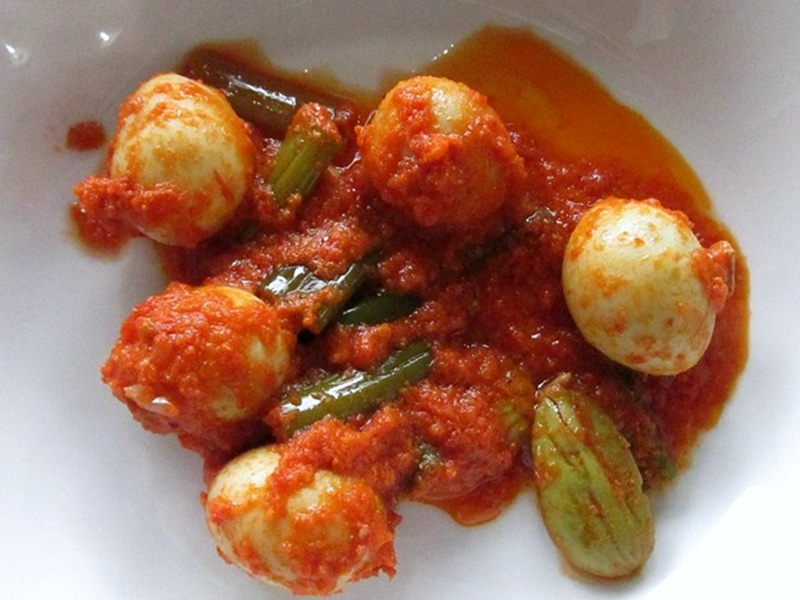Telur Balado: (142, 83, 683, 507)
